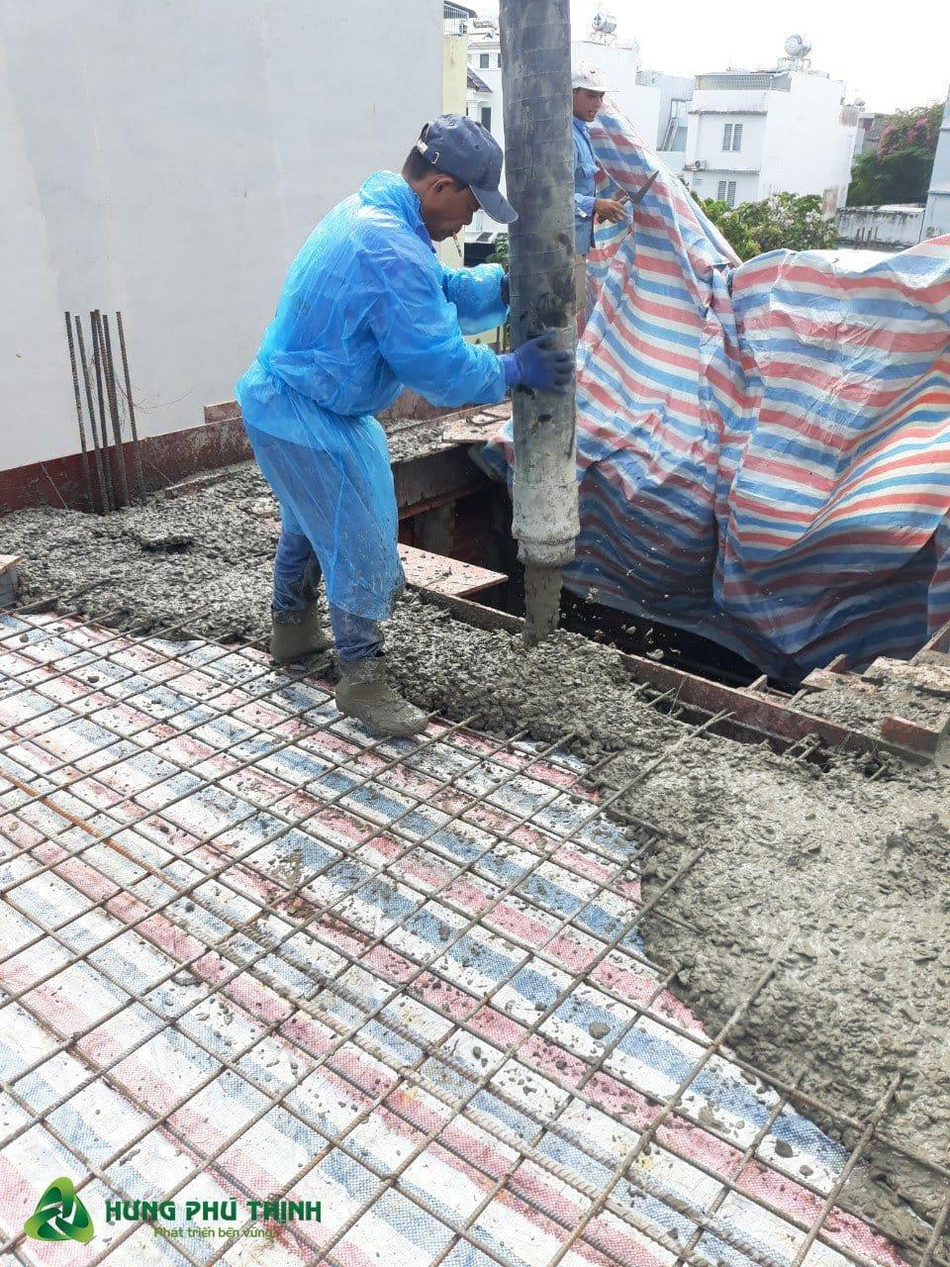Gloves: (499, 330, 576, 395)
Helmet: (414, 111, 520, 225)
Person: (234, 112, 576, 738)
Safety Boot: (333, 653, 428, 737), (268, 599, 333, 663)
no-vest: (232, 201, 472, 479)
